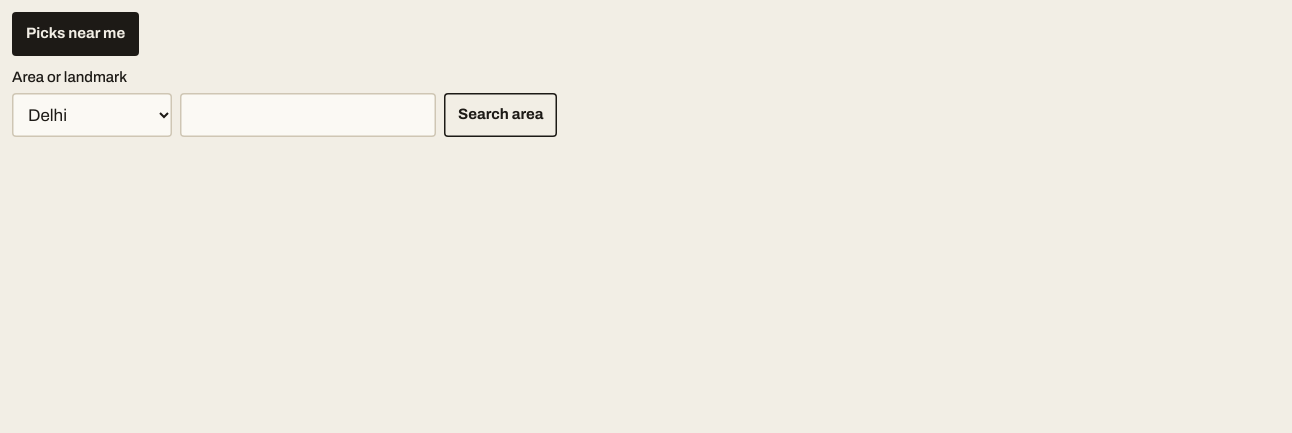
Test case: HomeNearMe › falls back to the closest picks when none are within 5 km
Click the button "Picks near me". click: x=76, y=34
box: left=12, top=12, right=139, bottom=56
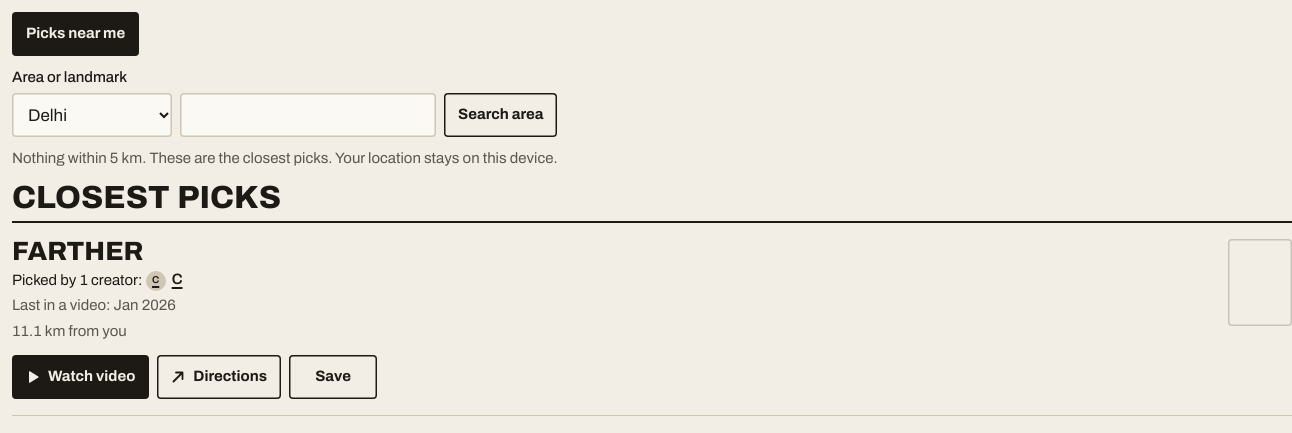
Check: the heading "Closest picks" is shown, box left=12, top=180, right=281, bottom=215
Check: the message shows "Nothing within 5 km", box left=12, top=151, right=558, bottom=167
Check: the link "farther" is shown, box left=12, top=237, right=143, bottom=266
